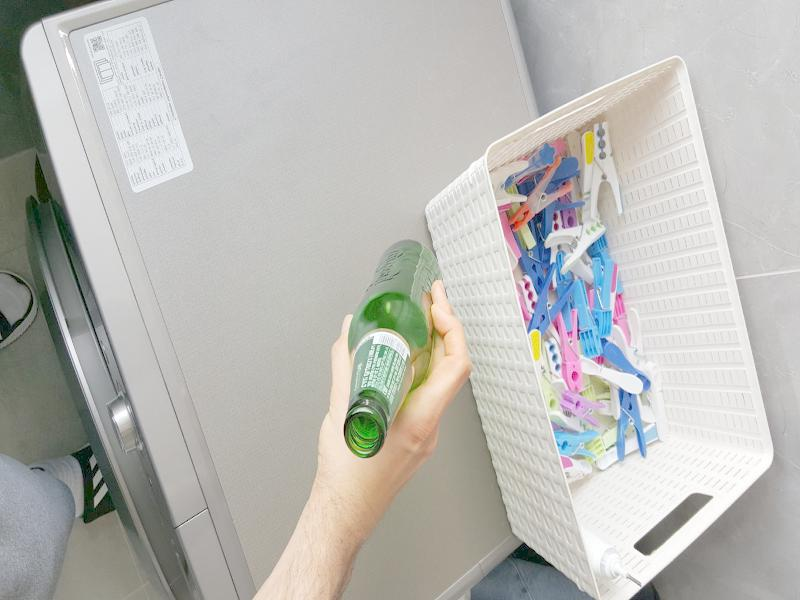Beer: (342, 241, 444, 457)
